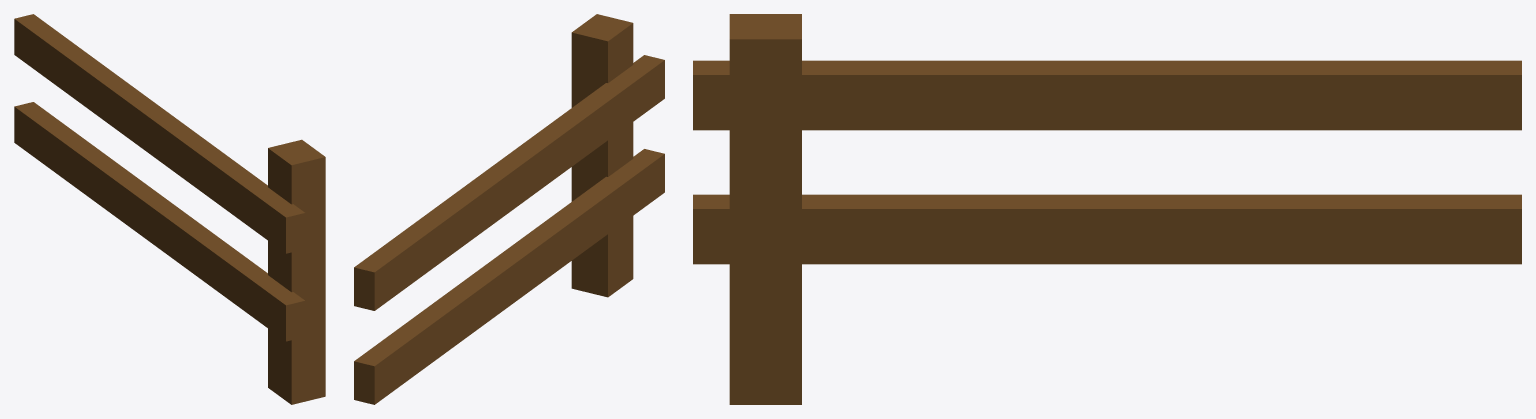
The model's file is Fence 4.fbx.
3 renders of one model, left to right at view 1: azimuth 30°, elevation 25°; view 2: azimuth 150°, elevation 25°; view 3: azimuth 270°, elevation 25°, orthographic. The views are drawn at different scales.
Parts seen in each view (by area): view 1: Fence_4; view 2: Fence_4; view 3: Fence_4.
Part boxes in pixels (x1,y1,x2,y2): Fence_4: (14, 14, 325, 404); Fence_4: (354, 14, 664, 404); Fence_4: (693, 14, 1521, 404).
Bounding box in the file's own units: 33.03 × 146 × 301.
1 material, 1 textured.
